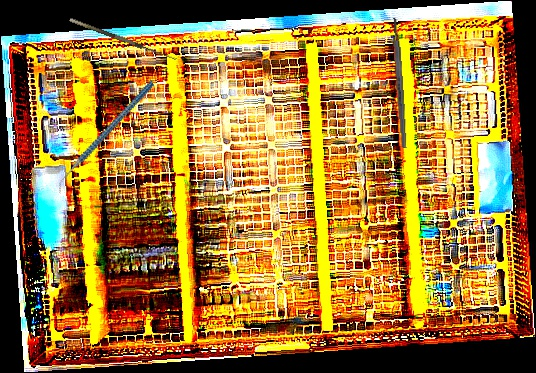Chopper: (32, 79, 180, 196)
Hook Surgical: (68, 11, 180, 63)
Scalpel Handle: (391, 17, 408, 149)
